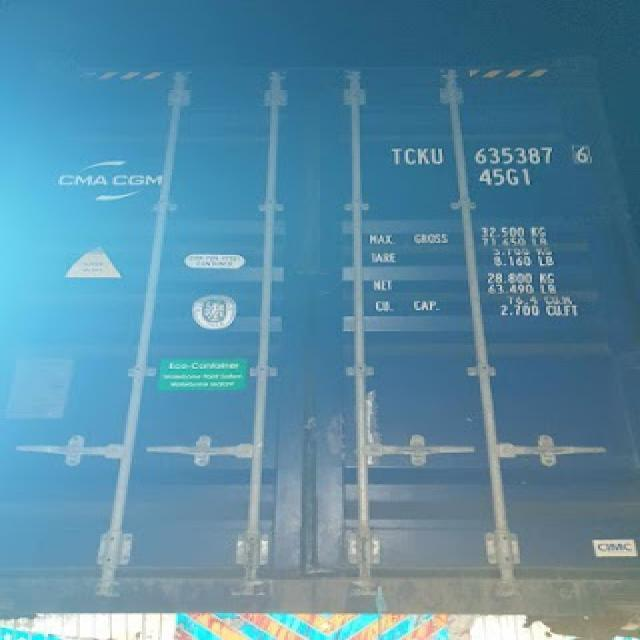ISO: (480, 166, 534, 187)
container_number: (388, 142, 586, 169)
